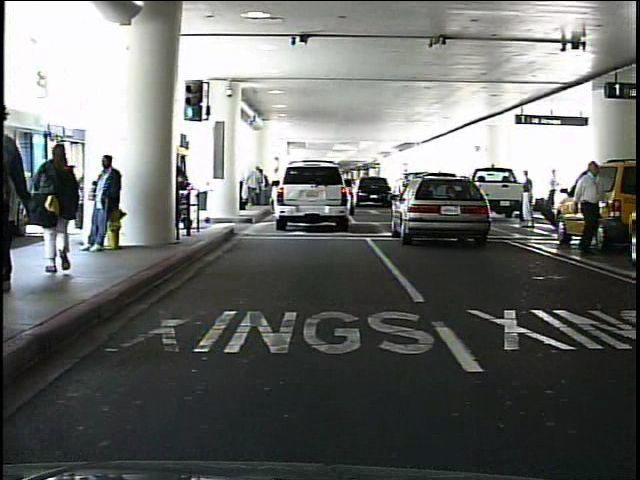person: (33, 140, 83, 274), (88, 150, 125, 254), (574, 158, 609, 259), (518, 170, 537, 231), (551, 168, 561, 211)
